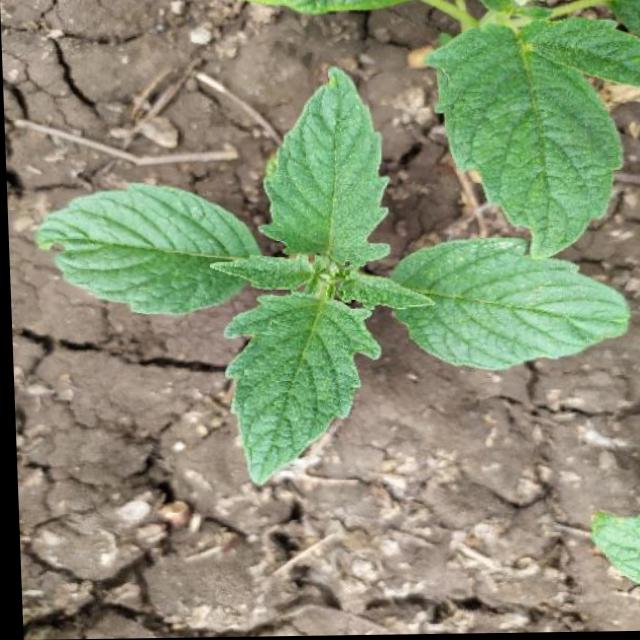crop: (31, 13, 629, 477)
